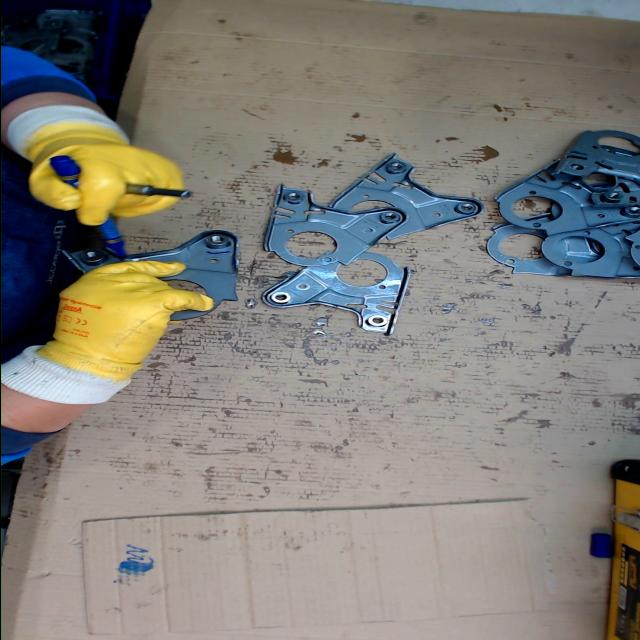hands: (49, 258, 215, 376), (27, 128, 185, 226)
